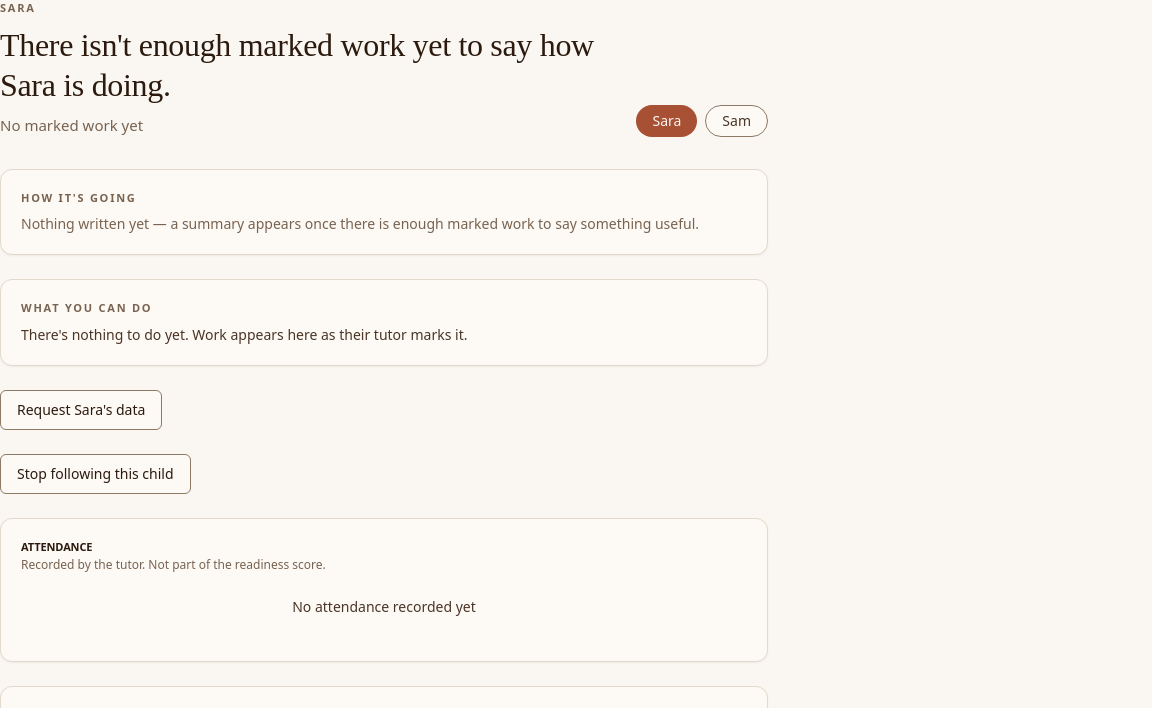
Test: stopping the first of two children moves to the other and never asks for the first again
The image size is (1152, 708).
Click the button "Stop following this child".
click(95, 474)  # box [0, 454, 191, 494]
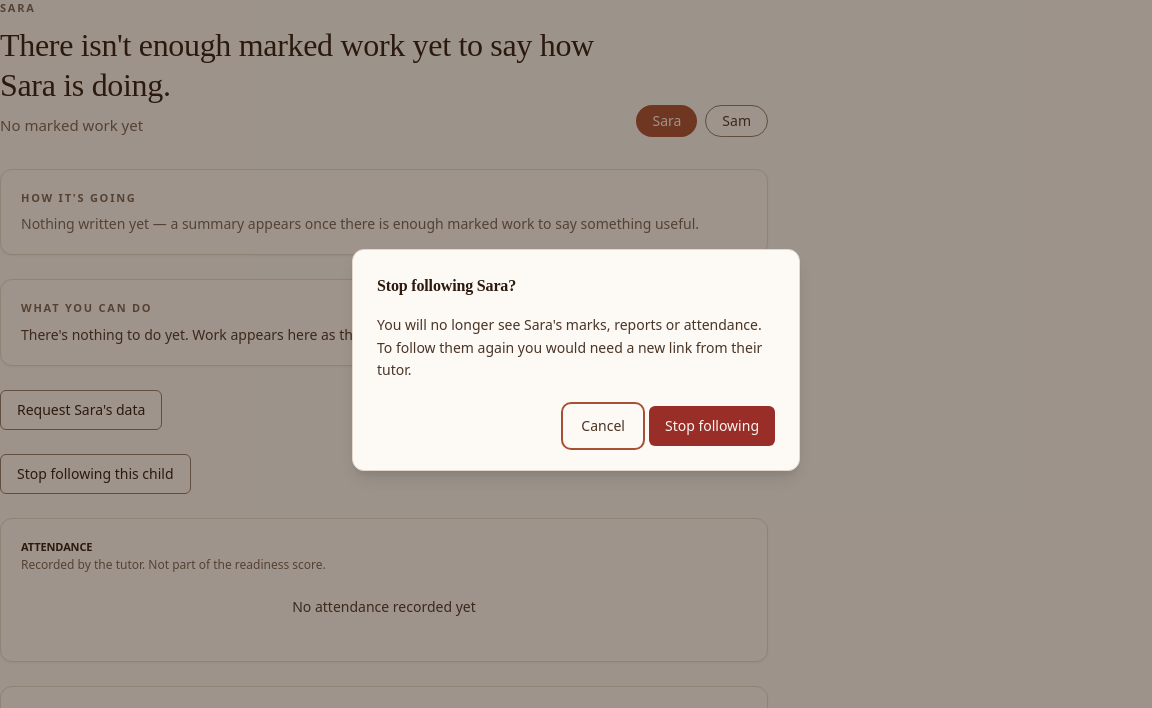
Click the button "Stop following".
click(712, 426)  # box [649, 406, 775, 446]
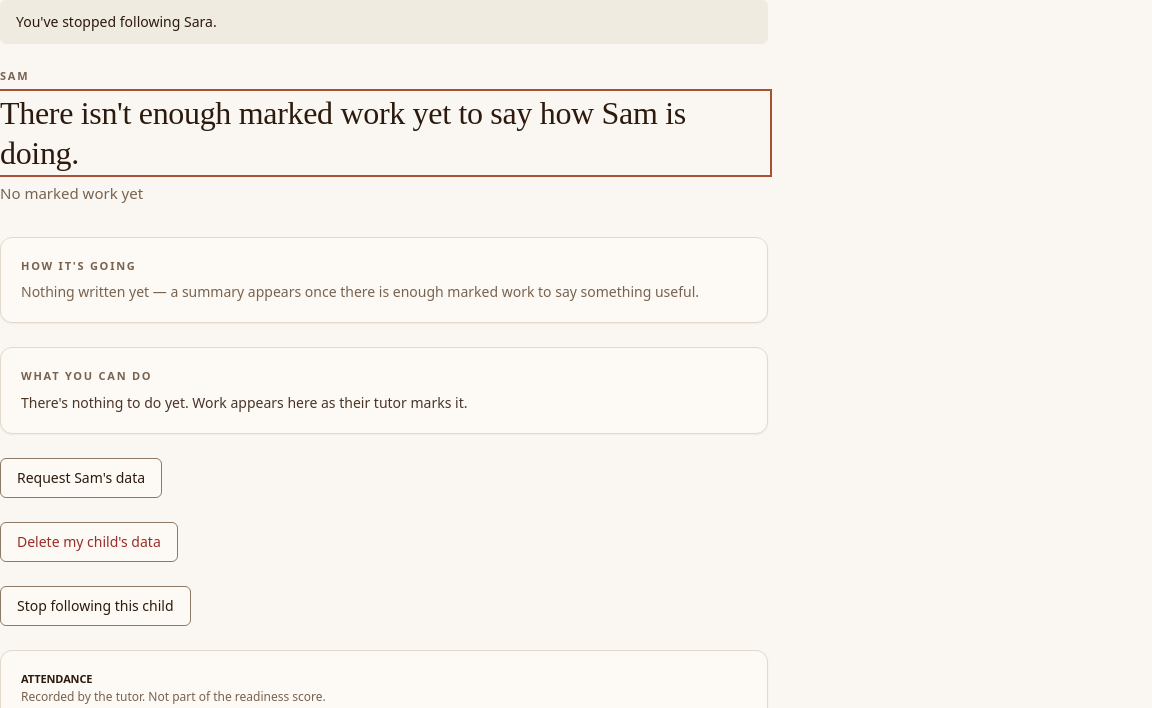
Check: the text "Sam" is shown, box [0, 68, 29, 83]
